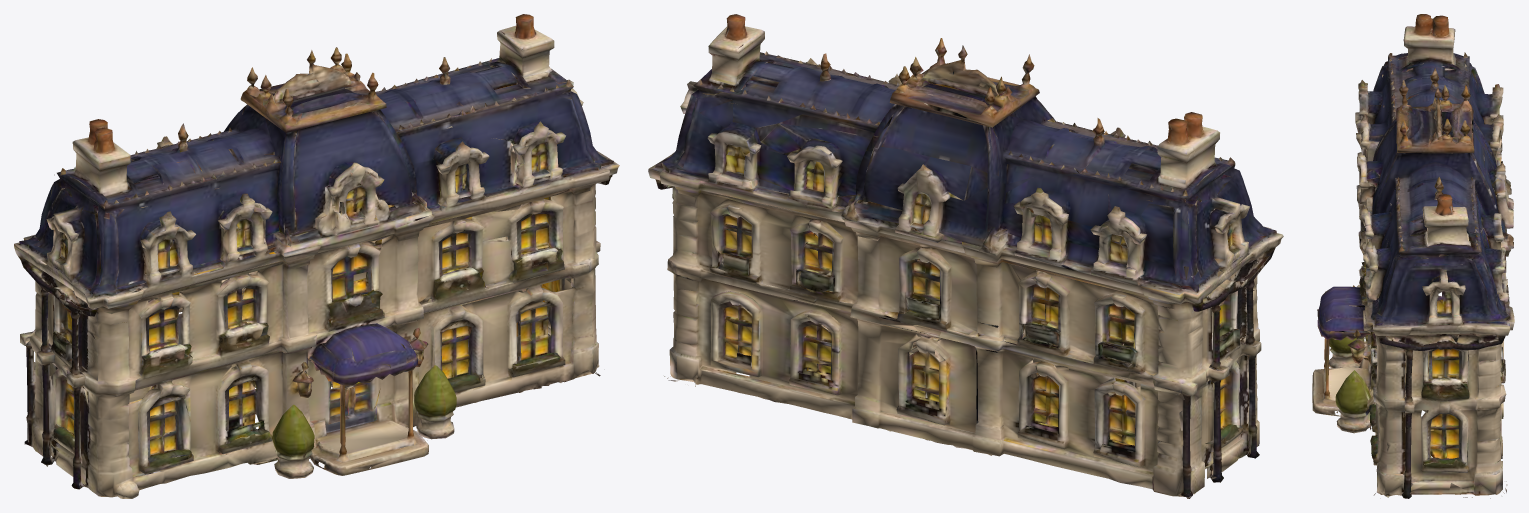
Rendered from skyscraper_1.glb.
3 renders of one model, left to right at view 1: azimuth 30°, elevation 25°; view 2: azimuth 150°, elevation 25°; view 3: azimuth 270°, elevation 25°, orthographic. The views are drawn at different scales.
Parts seen in each view (by area): view 1: classic__skyscraper_1__neural_lod; view 2: classic__skyscraper_1__neural_lod; view 3: classic__skyscraper_1__neural_lod.
Part boxes in pixels (x1,y1,x2,y2): classic__skyscraper_1__neural_lod: (14, 14, 619, 498); classic__skyscraper_1__neural_lod: (648, 14, 1283, 498); classic__skyscraper_1__neural_lod: (1312, 14, 1514, 498).
Bounding box in the file's own units: 0.9882 × 0.6406 × 0.3796.
Materials: 1 (1 with a texture image).
